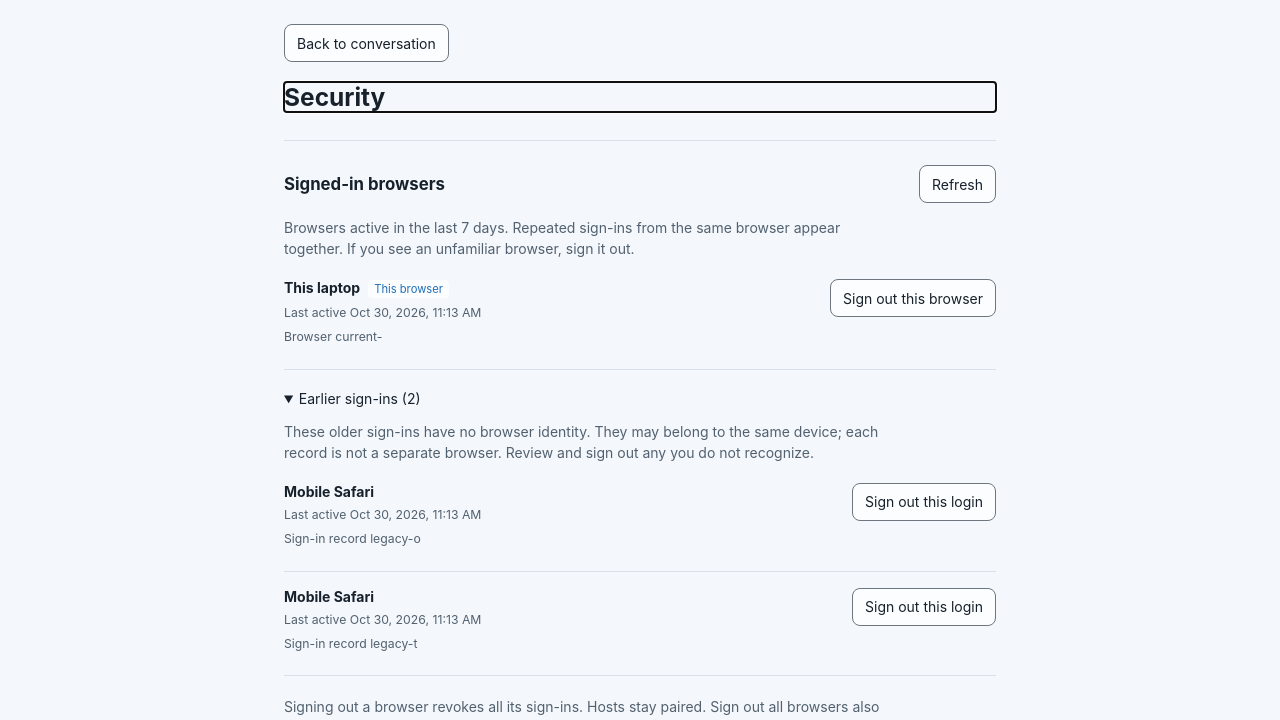
it: separates unidentified old sign-ins from the browser inventory instead of claiming each is a device
Expected: the element with class "gateway-security-legacy" is shown, top-left (284, 390), bottom-right (996, 676)
Expected: the heading "Earlier sign-ins (2)" is shown, top-left (299, 390), bottom-right (421, 407)
Click the 1st button "Sign out this login" at (924, 502), box top-left (852, 483), bottom-right (996, 521)
(page scrolled)
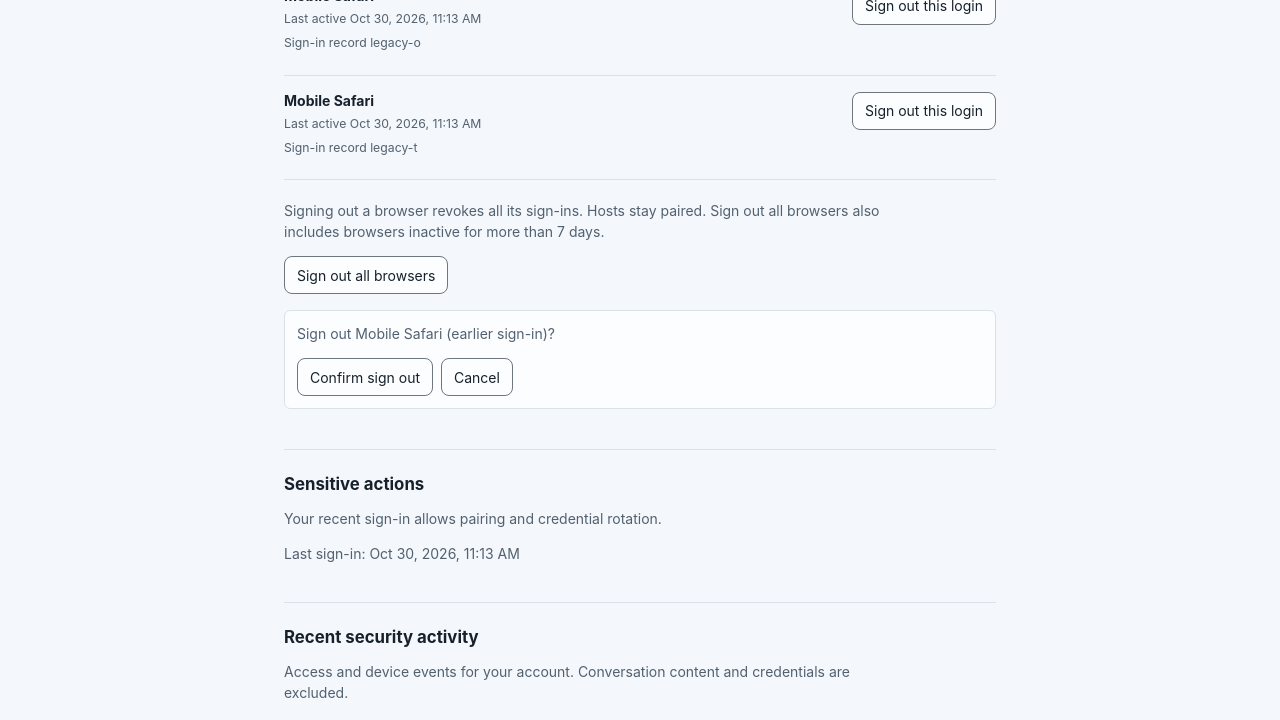
Expected: the element named "Confirm browser sign-out" shows "earlier sign-in", top-left (297, 325), bottom-right (555, 342)
